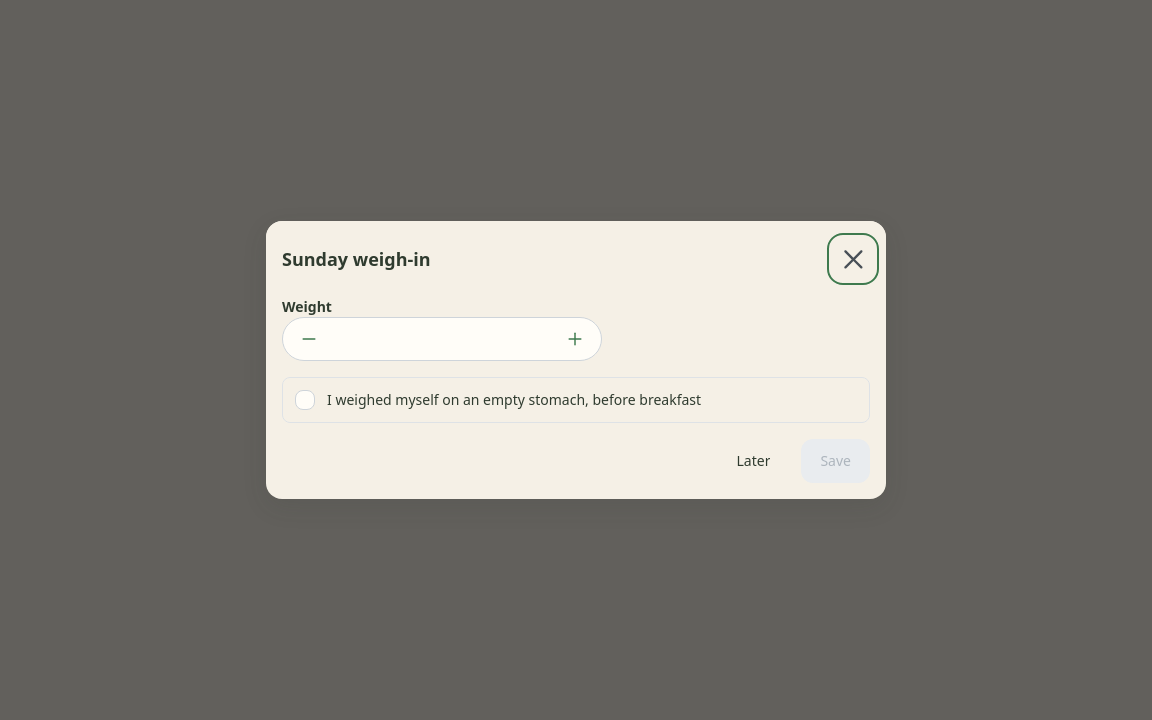
Test: F2-18 WeighInDialog › RNF-10 keeps the whole checkbox row a 44 px target, ticked with the keyboard too
Click the field labelled "Weight". click: (442, 339)
box: [282,317,602,361]
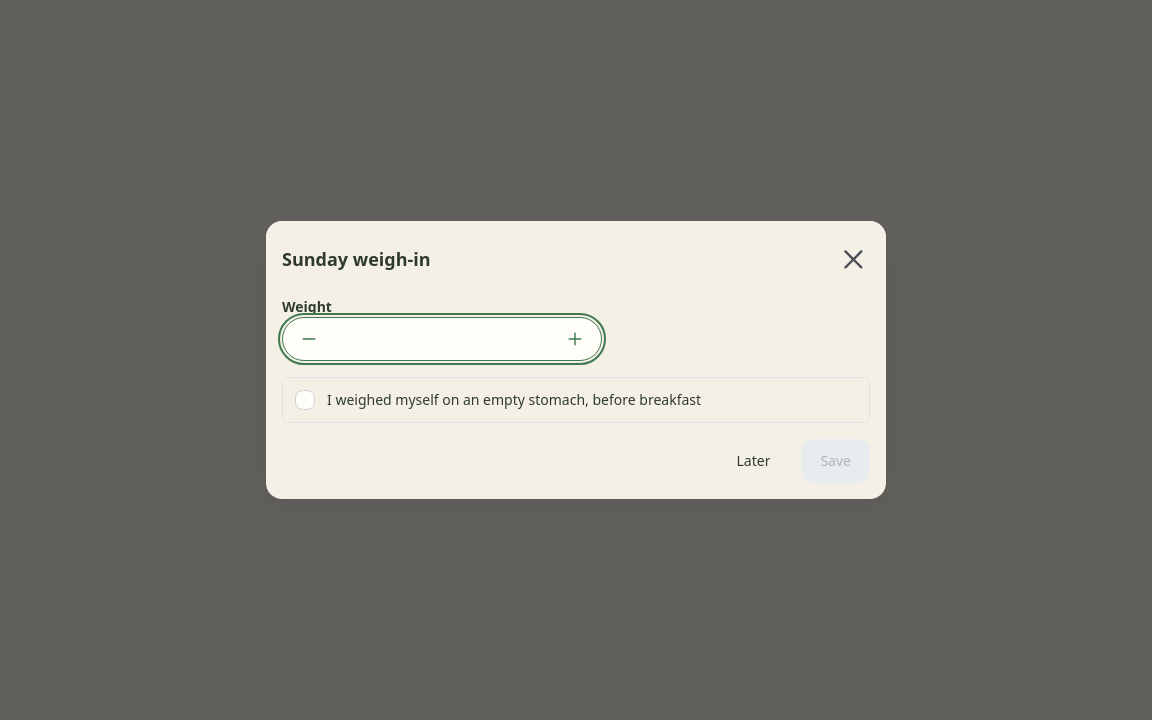
Press Tab
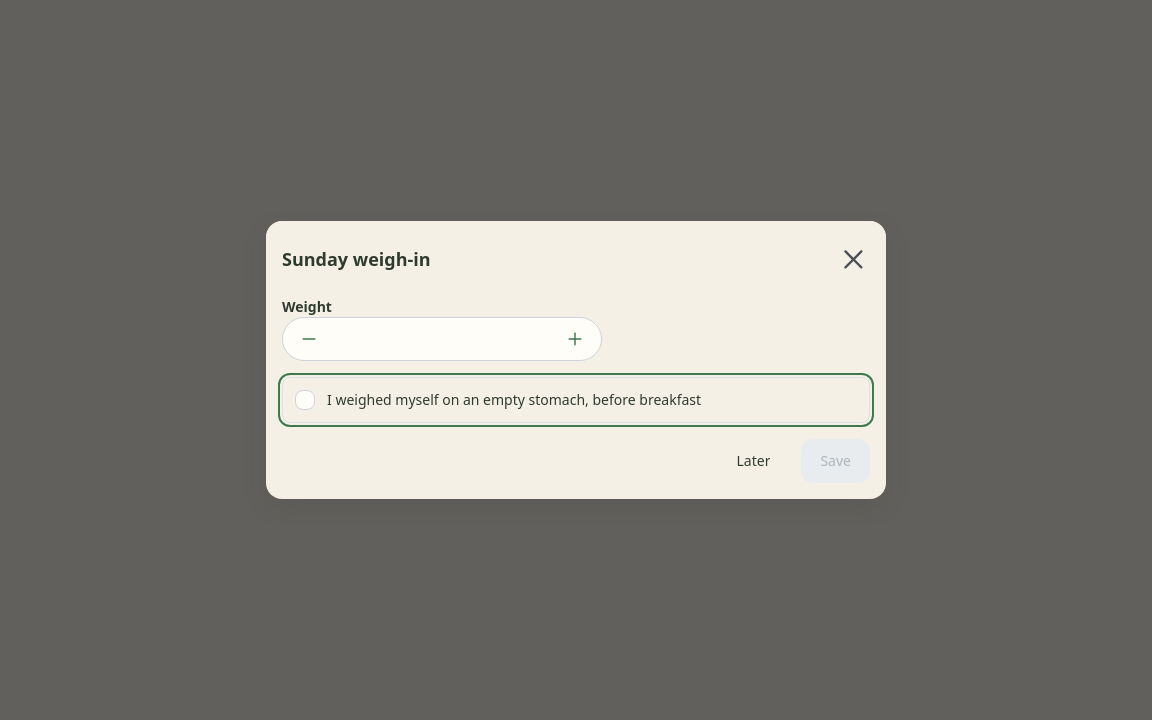
Type keys " "
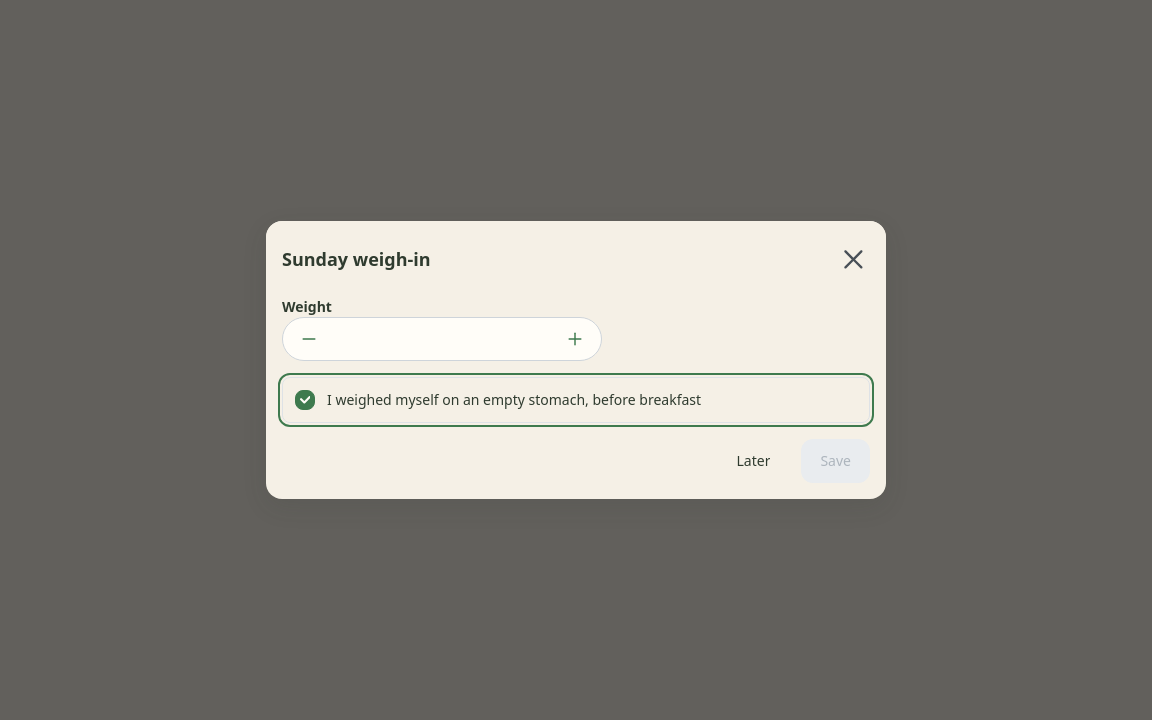
Result: the checkbox labelled "I weighed myself on an empty stomach, before breakfast" is checked at [282,377,870,423]
